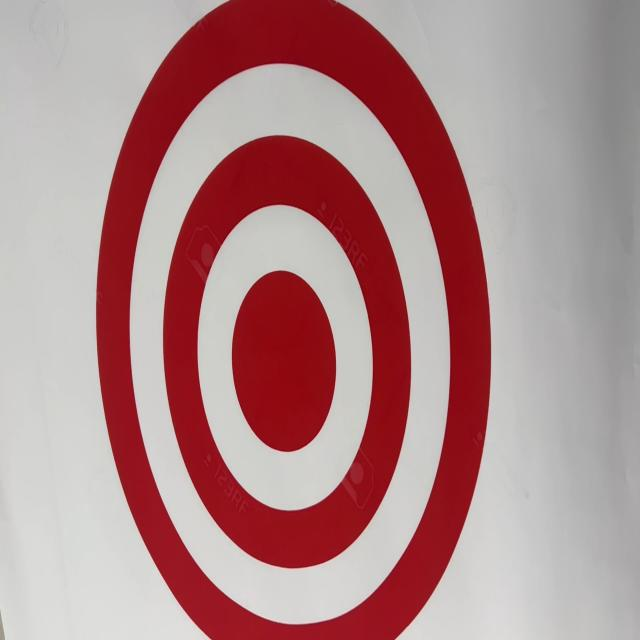target_red: (70, 3, 500, 640)
